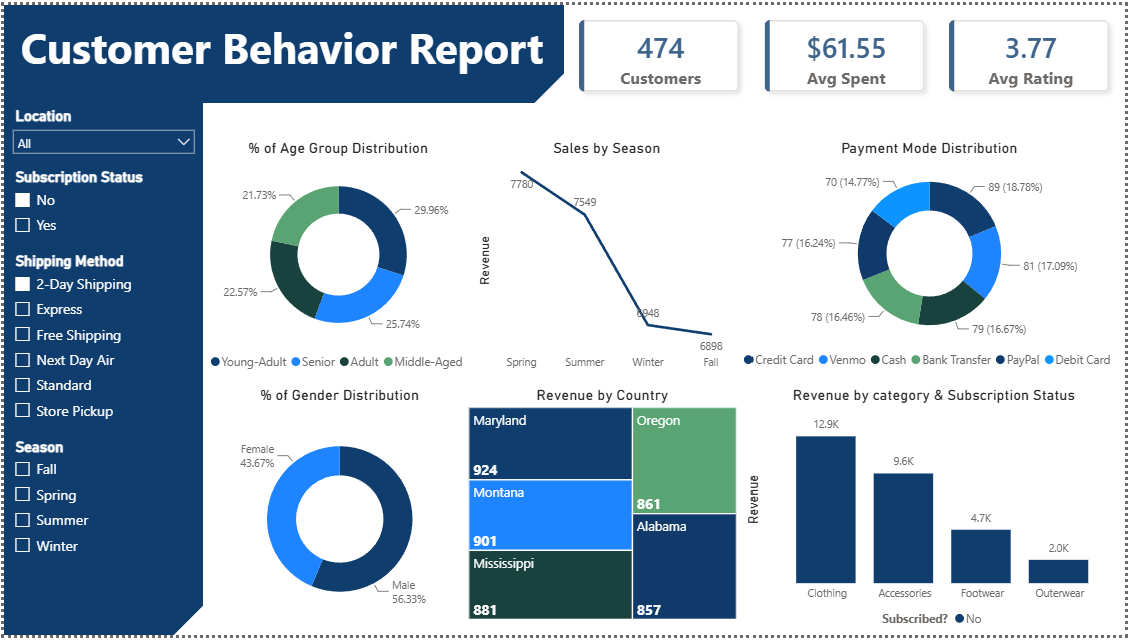

This screenshot's page, from the dashboard's own definition file:
{"tool":"powerbi","page":{"name":"Page 1","canvas":[1280,720],"ordinal":0},"visuals":[{"type":"cardVisual","fields":{"Data":["customers customer.Number of Customers","customers customer.Avg purchase amount","customers customer.Avg review rating"]},"box":[639.5,0,640.7,111.6],"z":0},{"type":"shape","box":[0,0,640,112],"z":1000},{"type":"textbox","box":[13.4,10.3,620,76],"z":2000},{"type":"donutChart","title":"% of Gender Distribution","fields":{"Y":["CountNonNull(customers customer.gender)"],"Category":["customers customer.gender"]},"box":[245.8,436.6,275.1,283.7],"z":3000},{"type":"donutChart","title":"% of Age Group Distribution ","fields":{"Category":["customers customer.age_group"],"Y":["CountNonNull(customers customer.age_group)"]},"box":[227.4,154.1,308.2,272.7],"z":4000},{"type":"columnChart","title":"Revenue by category & Subscription Status","fields":{"Category":["customers customer.category"],"Y":["Sum(customers customer.purchase_amount)"],"Series":["customers customer.subscription_status"]},"box":[841.3,436.6,434.2,284],"z":5000},{"type":"donutChart","title":"Payment Mode Distribution","fields":{"Category":["customers customer.payment_method"],"Y":["CountNonNull(customers customer.payment_method)"]},"box":[831.5,154.1,448.8,270.2],"z":6000},{"type":"lineChart","title":"Sales by Season","fields":{"Category":["customers customer.season"],"Y":["Sum(customers customer.purchase_amount)"]},"box":[535.6,154.1,305.7,272.7],"z":7000},{"type":"treemap","title":"Revenue by Country","fields":{"Group":["customers customer.location"],"Values":["Sum(customers customer.purchase_amount)"]},"box":[525.3,436.6,315.9,271],"z":8000},{"type":"shape","box":[0,111.3,227.4,609],"z":9000},{"type":"slicer","fields":{"Values":["customers customer.location"]},"box":[0,111.7,227.5,70],"z":10000},{"type":"slicer","fields":{"Values":["customers customer.subscription_status"]},"box":[0,181.7,227.5,96.7],"z":11000},{"type":"slicer","fields":{"Values":["customers customer.shipping_type"]},"box":[0,278.3,227.5,211.7],"z":12000},{"type":"slicer","fields":{"Values":["customers customer.season"]},"box":[0,490,227.5,175],"z":13000}]}

Visuals, with their boxes in screenshot pixels (x1, y1, x2, y2), scaled from the page's 1280x720 canvas onto the 1128x640 screenshot:
cardVisual - customers customer.Number of Customers x customers customer.Avg purchase amount: [left=564, top=0, right=1127, bottom=99]
shape: [left=0, top=0, right=564, bottom=100]
textbox: [left=12, top=9, right=558, bottom=77]
"% of Gender Distribution" donutChart: [left=217, top=388, right=459, bottom=639]
"% of Age Group Distribution " donutChart: [left=200, top=137, right=472, bottom=379]
"Revenue by category & Subscription Status" columnChart: [left=741, top=388, right=1124, bottom=639]
"Payment Mode Distribution" donutChart: [left=733, top=137, right=1127, bottom=377]
"Sales by Season" lineChart: [left=472, top=137, right=741, bottom=379]
"Revenue by Country" treemap: [left=463, top=388, right=741, bottom=629]
shape: [left=0, top=99, right=200, bottom=639]
slicer - customers customer.location: [left=0, top=99, right=200, bottom=162]
slicer - customers customer.subscription_status: [left=0, top=162, right=200, bottom=247]
slicer - customers customer.shipping_type: [left=0, top=247, right=200, bottom=436]
slicer - customers customer.season: [left=0, top=436, right=200, bottom=591]
